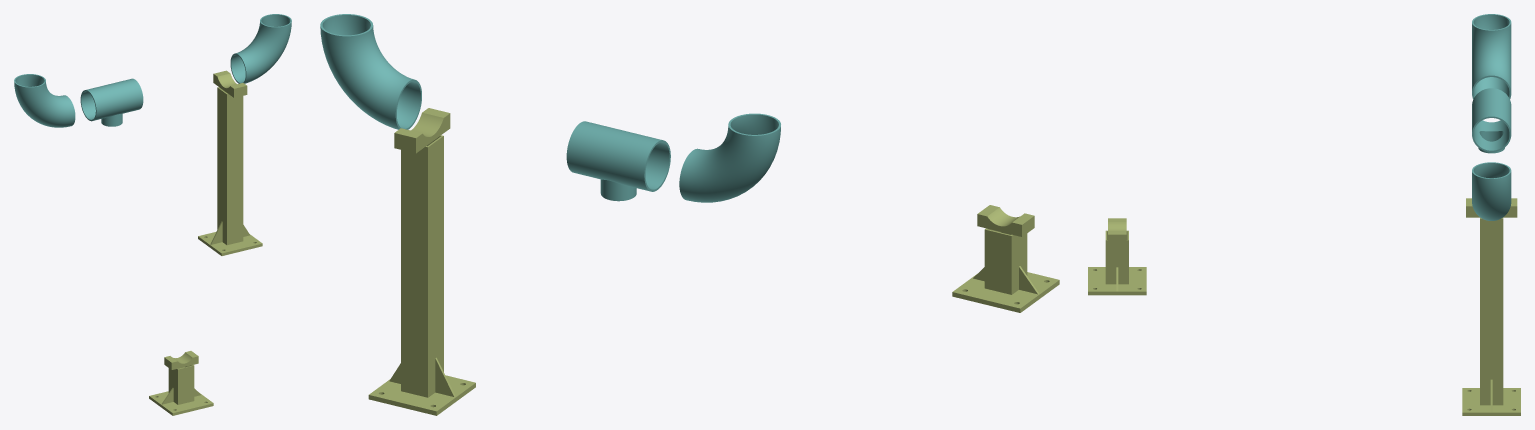
Rendered from step_69.glb.
3 views of the same model, side by side, from view 1: azimuth 30°, elevation 25°; view 2: azimuth 150°, elevation 25°; view 3: azimuth 270°, elevation 25° (orthographic). The views are drawn at different scales.
Parts seen in each view (by area): view 1: part__pipe support SP-101, tall, part__6" elbow bottom right, part__6" elbow bottom left, part__6" x 4" reducing tee, part__pipe support SP-101, short; view 2: part__pipe support SP-101, tall, part__6" elbow bottom right, part__6" elbow bottom left, part__6" x 4" reducing tee, part__pipe support SP-101, short; view 3: part__pipe support SP-101, tall, part__6" elbow bottom left, part__pipe support SP-101, short, part__6" x 4" reducing tee, part__6" elbow bottom right.
Boxes of the visible parts, bbox=[...] form: part__pipe support SP-101, tall: bbox=[198, 70, 262, 255]; part__6" elbow bottom right: bbox=[230, 14, 291, 83]; part__6" elbow bottom left: bbox=[14, 74, 75, 127]; part__6" x 4" reducing tee: bbox=[80, 78, 143, 126]; part__pipe support SP-101, short: bbox=[149, 351, 213, 415]; part__pipe support SP-101, tall: bbox=[368, 108, 475, 415]; part__6" elbow bottom right: bbox=[320, 14, 421, 129]; part__6" elbow bottom left: bbox=[679, 113, 780, 202]; part__6" x 4" reducing tee: bbox=[566, 121, 670, 201]; part__pipe support SP-101, short: bbox=[952, 205, 1059, 312]; part__pipe support SP-101, tall: bbox=[1462, 198, 1520, 415]; part__6" elbow bottom left: bbox=[1472, 14, 1511, 99]; part__pipe support SP-101, short: bbox=[1088, 218, 1146, 295]; part__6" x 4" reducing tee: bbox=[1472, 88, 1511, 153]; part__6" elbow bottom right: bbox=[1472, 162, 1511, 220].
Bounding box in the file's own units: 1709 × 1229 × 1850.
